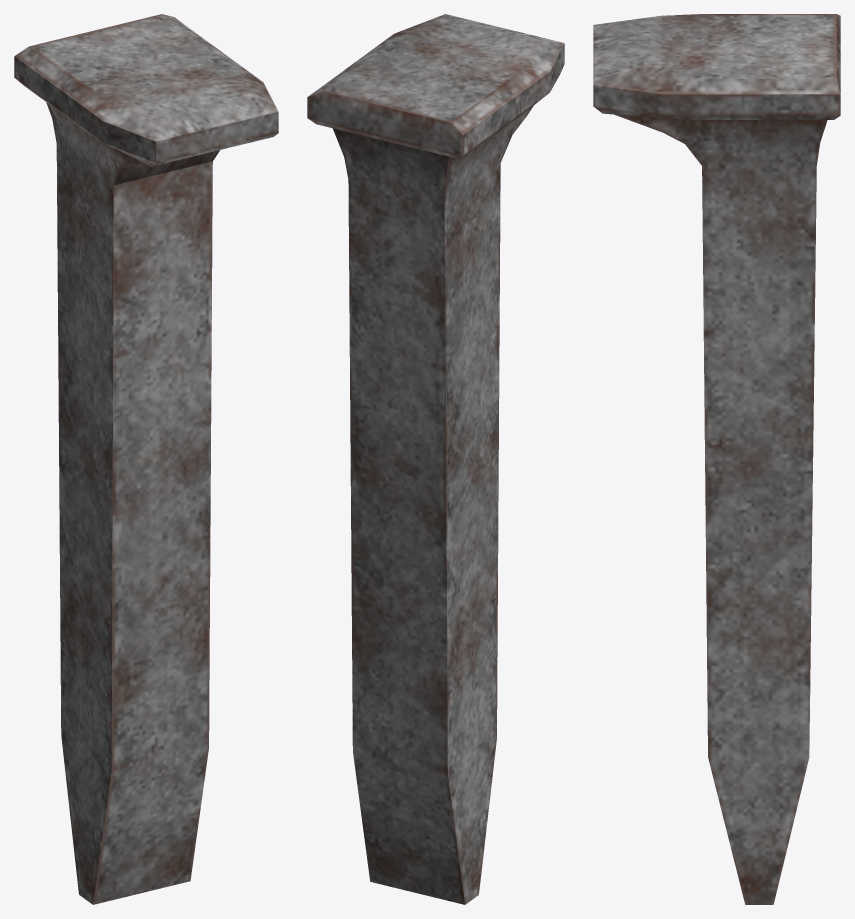
The model's file is railroad spikes.fbx.
3 views of the same model, side by side, from view 1: azimuth 30°, elevation 25°; view 2: azimuth 150°, elevation 25°; view 3: azimuth 270°, elevation 25° (orthographic). The views are drawn at different scales.
Visible parts, largest first — view 1: Cube; view 2: Cube; view 3: Cube.
Boxes of the visible parts, bbox=[...] form: Cube: bbox=[14, 14, 278, 904]; Cube: bbox=[307, 14, 564, 904]; Cube: bbox=[593, 14, 840, 904].
Size of the model in its own units: 10.11 by 50.11 by 13.47.
